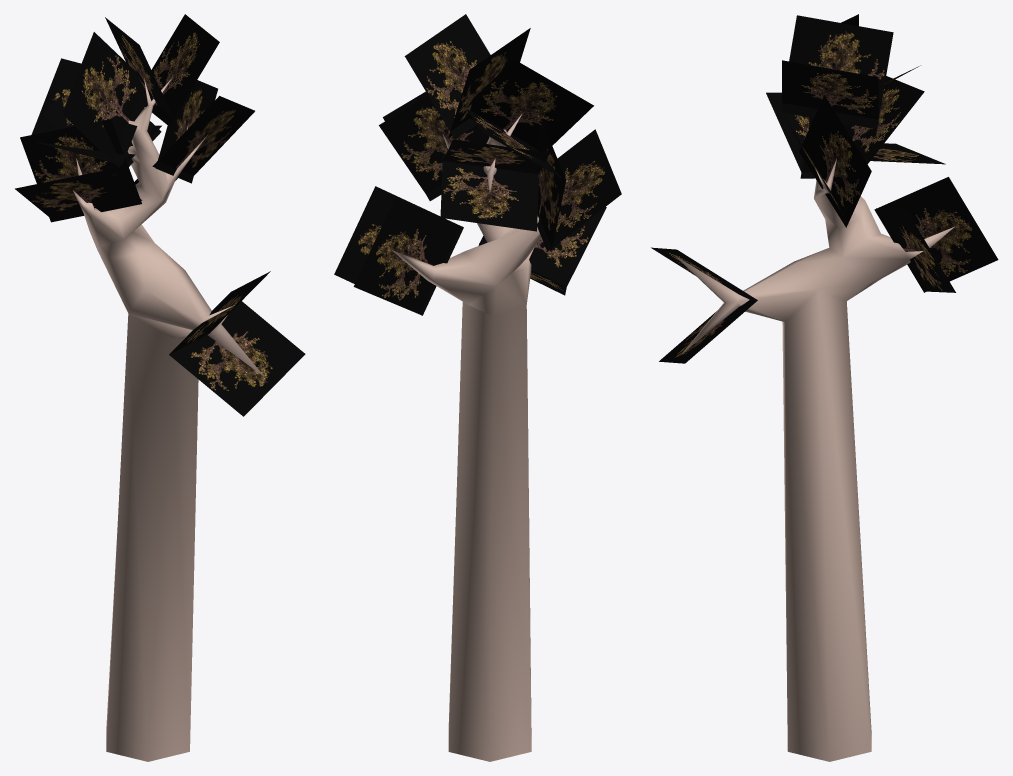
The model's file is tree.glb.
3 views of the same model, side by side, from view 1: azimuth 30°, elevation 25°; view 2: azimuth 150°, elevation 25°; view 3: azimuth 270°, elevation 25° (orthographic).
Bounding box in the file's own units: 1.33 × 3.77 × 1.67.
Materials: 2 (1 with a texture image).
